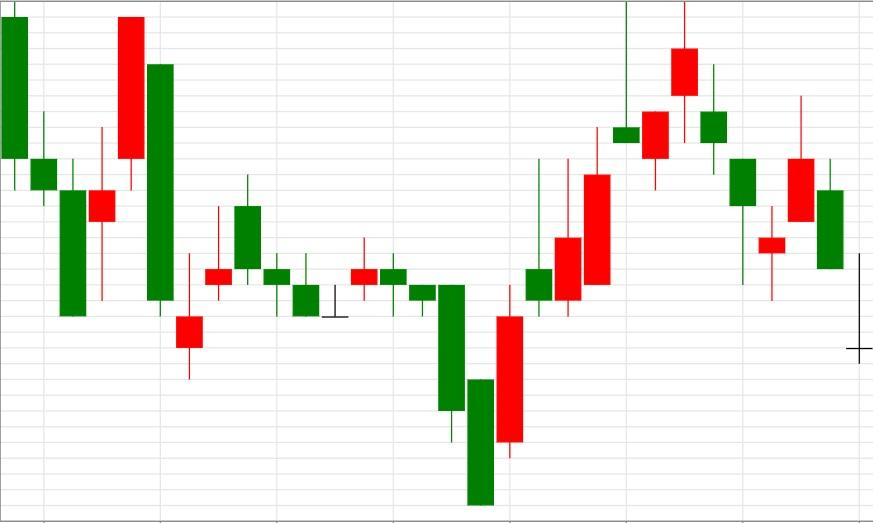three_black_crows_fall: (176, 175, 320, 379)
